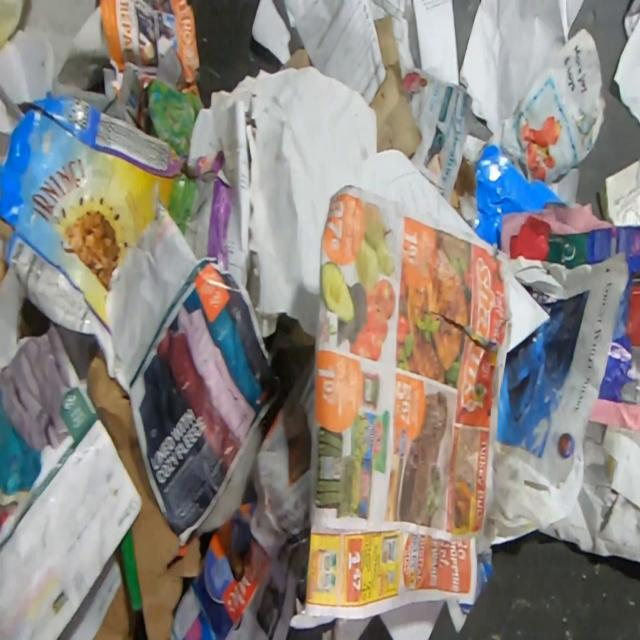cardboard: (0, 95, 236, 393), (85, 349, 202, 640), (471, 141, 565, 252), (56, 544, 146, 640), (449, 153, 476, 213)
